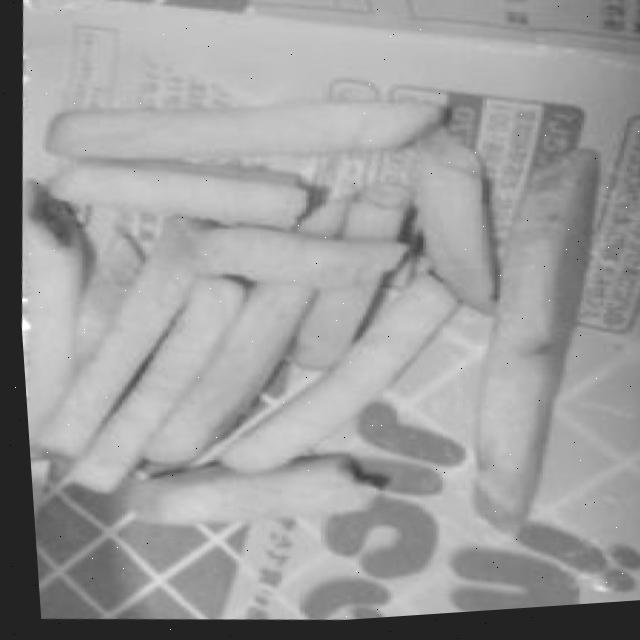炸货点心: (3, 29, 634, 605)
